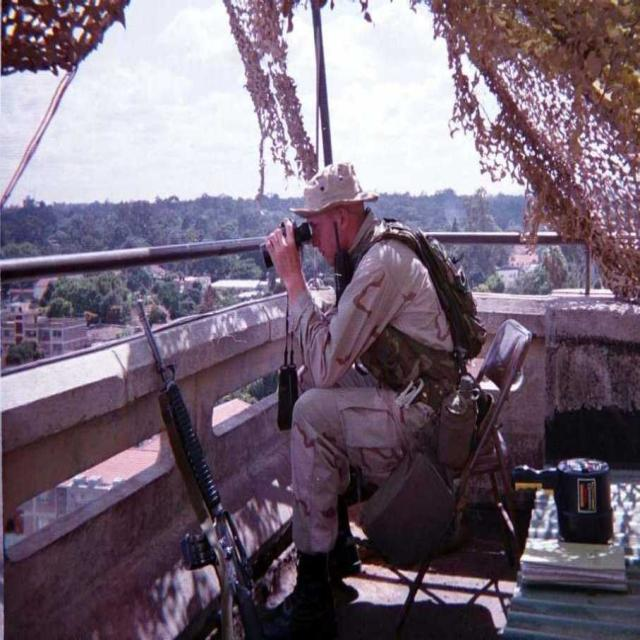Rifle: (126, 294, 276, 638)
